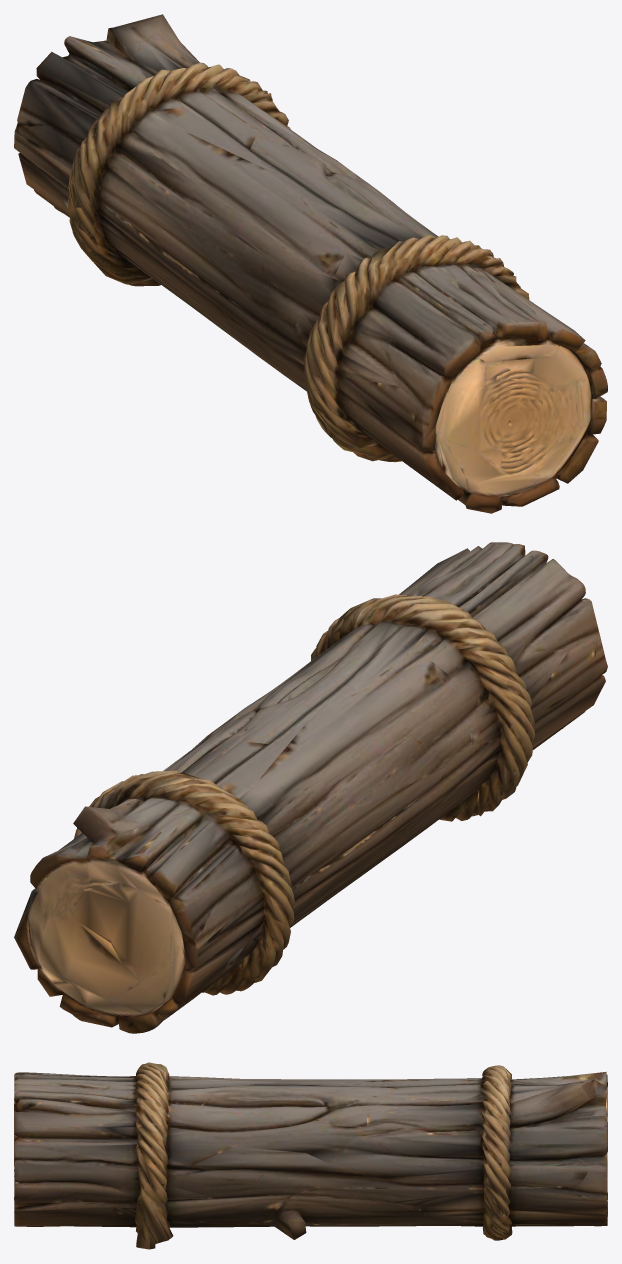
Rendered from timber_log_single.glb.
3 views of the same model, one above another, from view 1: azimuth 30°, elevation 25°; view 2: azimuth 150°, elevation 25°; view 3: azimuth 270°, elevation 25° (orthographic). The views are drawn at different scales.
Parts seen in each view (by area): view 1: node_0; view 2: node_0; view 3: node_0.
Boxes of the visible parts, x1,y1,x2,y2 form: node_0: [14, 14, 607, 513]; node_0: [14, 542, 607, 1033]; node_0: [14, 1062, 607, 1249].
Size of the model in its own units: 0.3668 by 0.336 by 1.16.
1 material, 1 textured.
